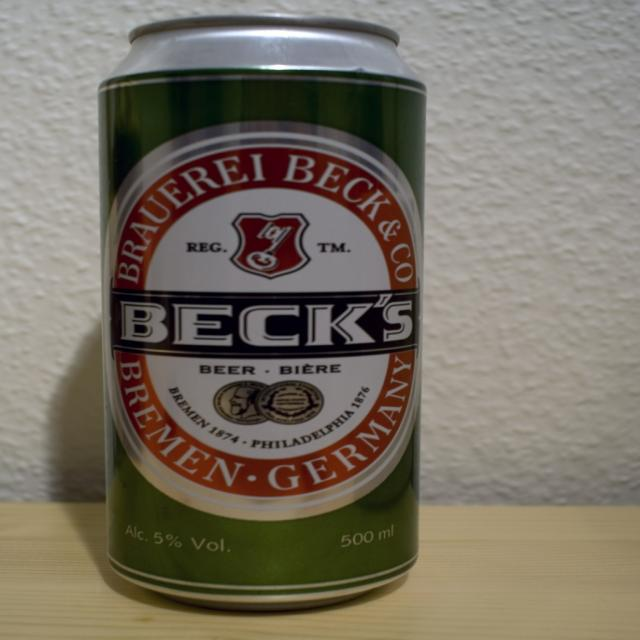becks: (102, 125, 425, 524)
